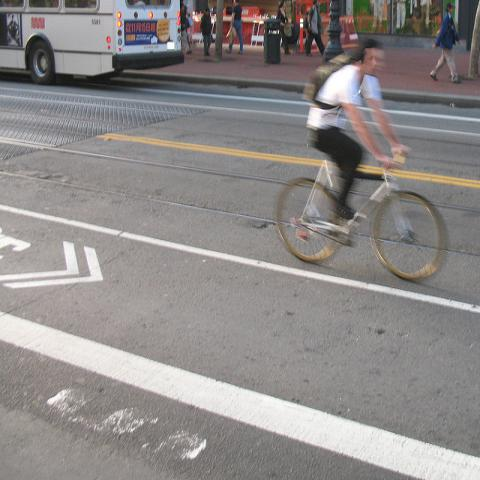bus: (0, 0, 184, 84)
